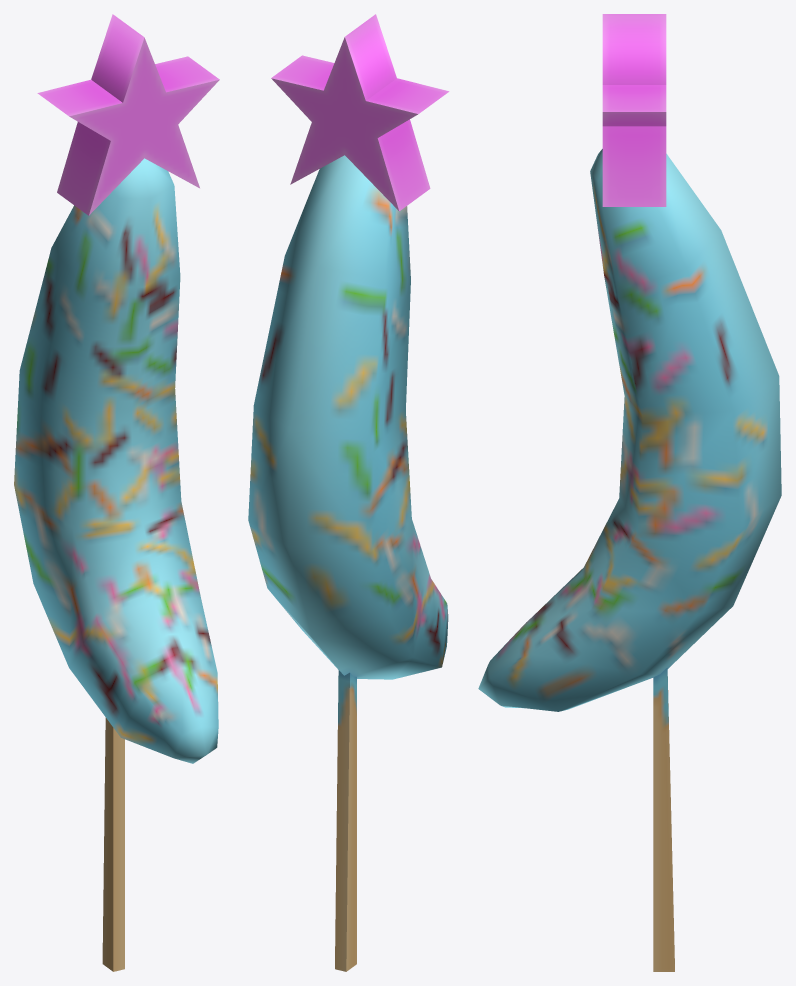
File: jsf_ChocolateBanana_a04_c03.fbx
3 renders of one model, left to right at view 1: azimuth 30°, elevation 25°; view 2: azimuth 150°, elevation 25°; view 3: azimuth 270°, elevation 25°, orthographic. The views are drawn at different scales.
Visible parts, largest first — view 1: jsf_ChocolateBanana_a04_c03; view 2: jsf_ChocolateBanana_a04_c03; view 3: jsf_ChocolateBanana_a04_c03.
Boxes of the visible parts, <box> form: jsf_ChocolateBanana_a04_c03: <box>14,14,219,971</box>; jsf_ChocolateBanana_a04_c03: <box>248,14,449,971</box>; jsf_ChocolateBanana_a04_c03: <box>478,14,781,971</box>.
Bounding box in the file's own units: 4.51 × 27.18 × 7.83.
